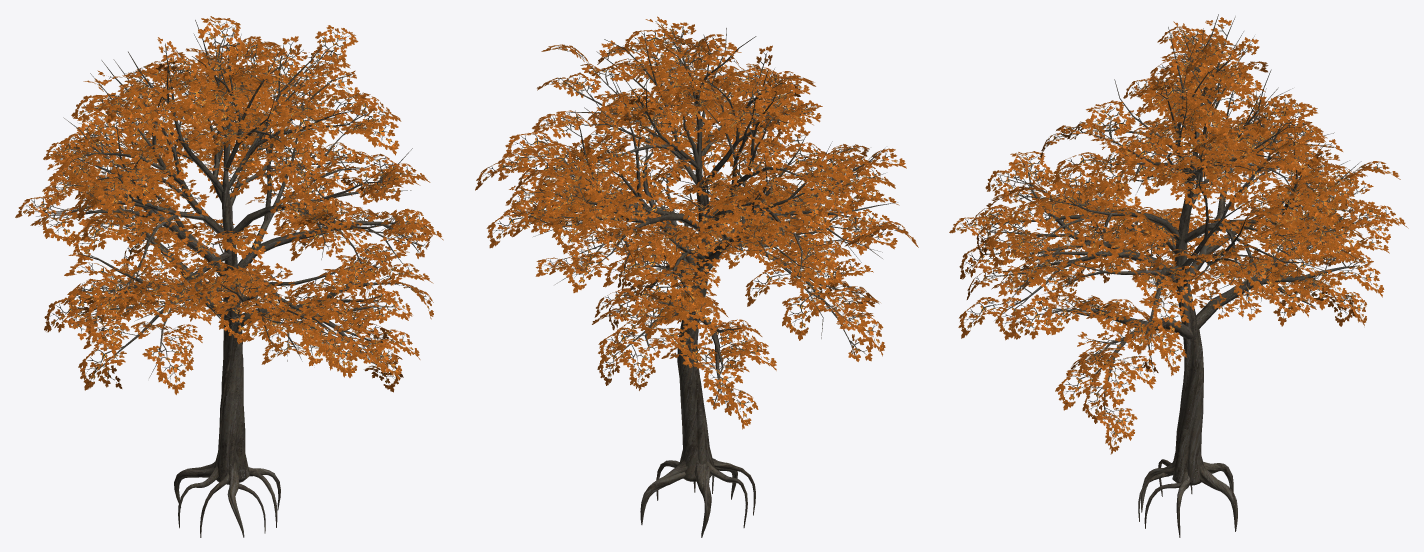
File: Tree3-2-Leaves.fbx
3 renders of one model, left to right at view 1: azimuth 30°, elevation 25°; view 2: azimuth 150°, elevation 25°; view 3: azimuth 270°, elevation 25°, orthographic. The views are drawn at different scales.
Visible parts, largest first — view 1: Tree3-2-Leaves_LOD0; view 2: Tree3-2-Leaves_LOD0; view 3: Tree3-2-Leaves_LOD0.
Part boxes in pixels (bbox=[...]): Tree3-2-Leaves_LOD0: bbox=[15, 16, 443, 537]; Tree3-2-Leaves_LOD0: bbox=[475, 16, 918, 537]; Tree3-2-Leaves_LOD0: bbox=[949, 14, 1408, 537].
Size of what is drawn, in the model's own units: 7.6 by 8.49 by 9.61.
